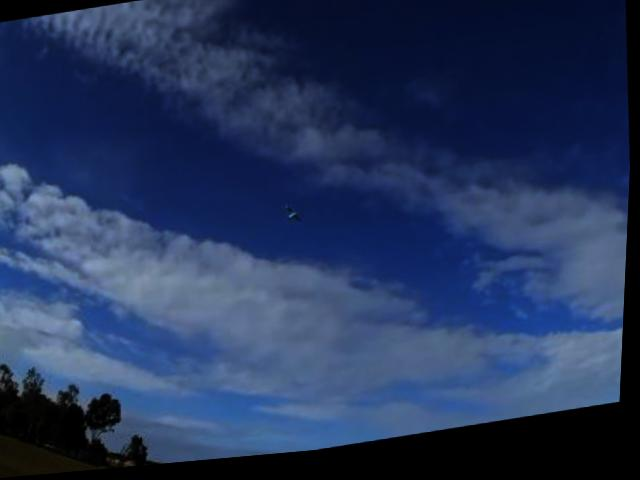uav: (277, 195, 311, 236)
